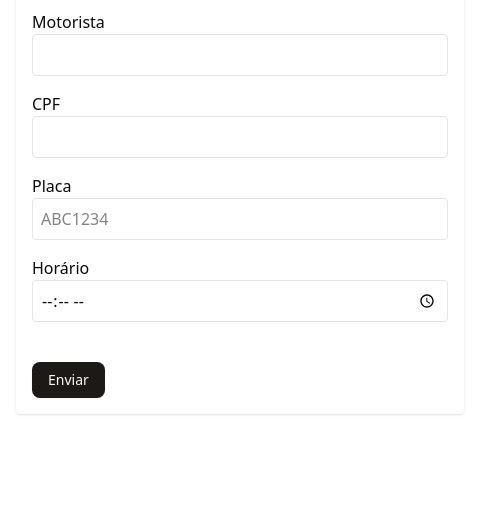
Test: DriverForm › mostra erro para CPF inválido
In the field labelled "CPF": [240, 137] box x1=32 y1=116 x2=448 y2=158, type "123"
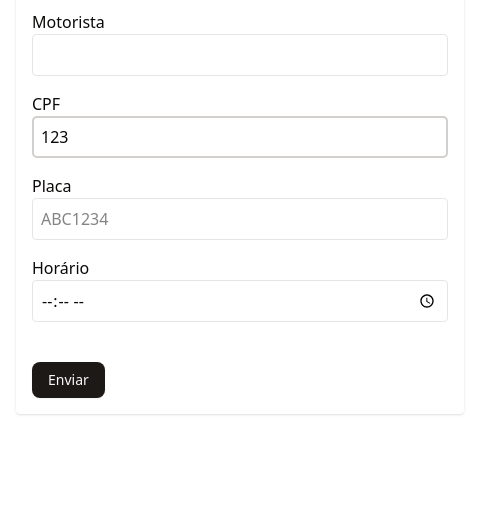
Click the button "Enviar": [68, 380] box x1=32 y1=362 x2=105 y2=398
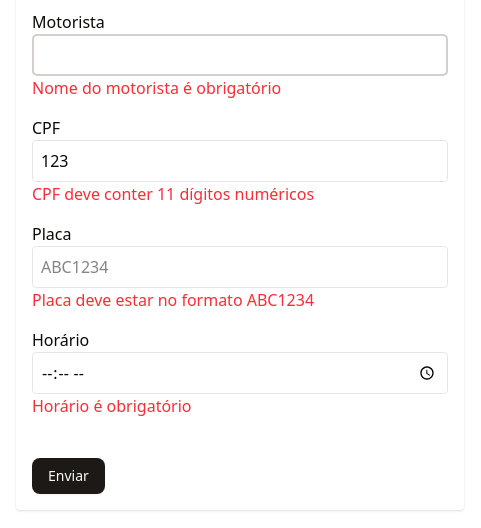
Expected: the text "CPF deve conter 11 dígitos numéricos" is shown, x1=32 y1=183 x2=314 y2=205
